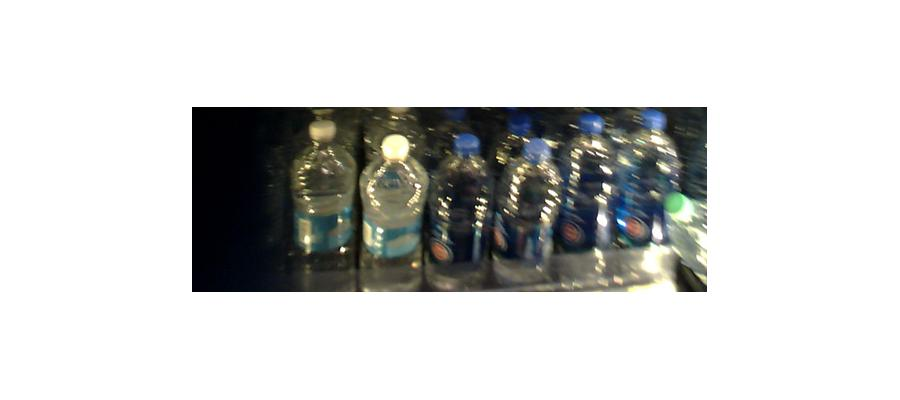bottle: (600, 107, 678, 286), (290, 115, 358, 289), (359, 134, 425, 290), (494, 127, 558, 283), (428, 136, 492, 289), (557, 116, 611, 288)
